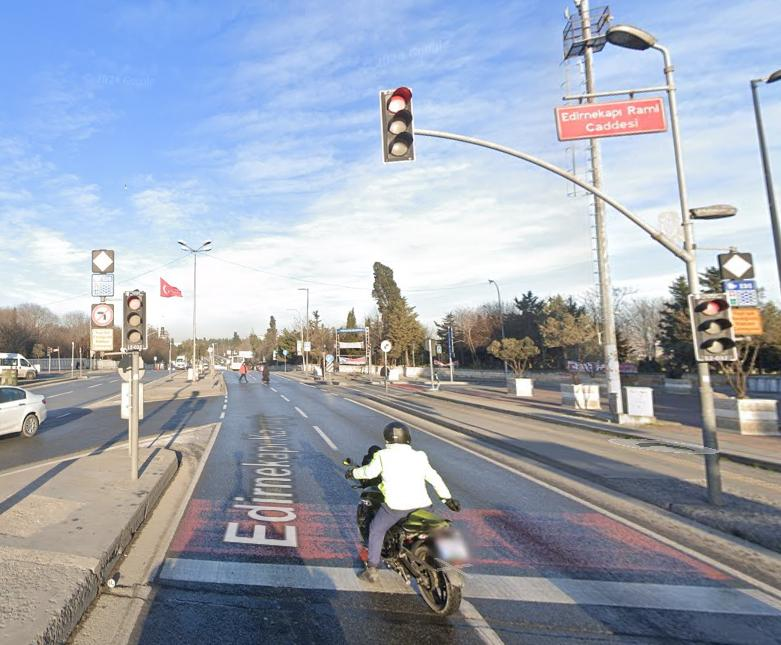leftturnsareforbidden: (90, 303, 114, 324)
redlight: (694, 294, 736, 360), (382, 86, 413, 161), (123, 287, 147, 346)
